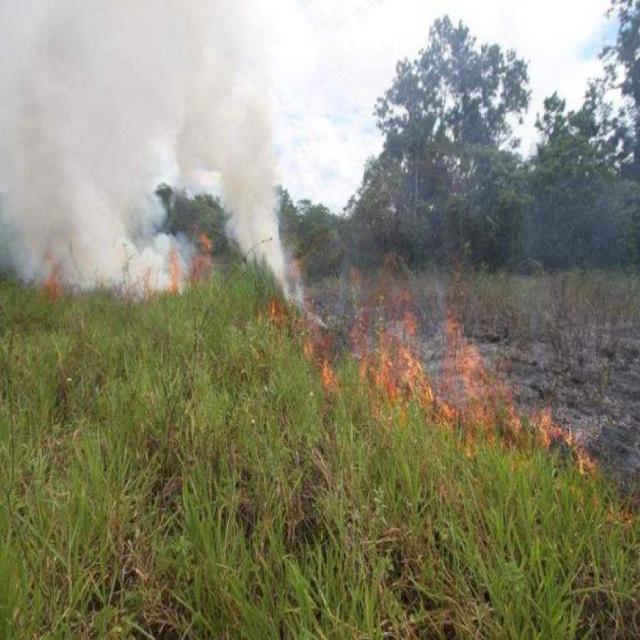smoke: (28, 25, 264, 263)
